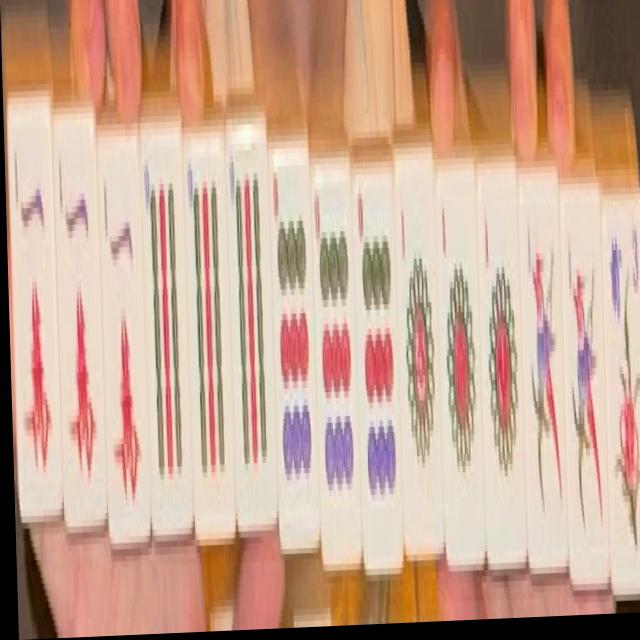1B: (558, 185, 612, 589), (517, 174, 569, 575)
1C: (10, 116, 61, 502), (52, 146, 105, 514), (101, 174, 146, 511)
1D: (392, 157, 447, 571), (474, 169, 529, 579), (434, 165, 486, 573)
3F: (602, 181, 640, 603)
9B: (225, 134, 277, 539), (183, 142, 236, 538), (142, 154, 187, 517)
9D: (309, 153, 363, 565), (353, 150, 405, 571), (267, 152, 321, 554)
